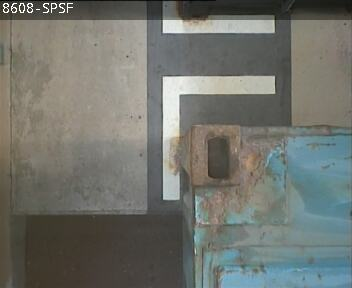groundmarker_1: (162, 1, 276, 199)
